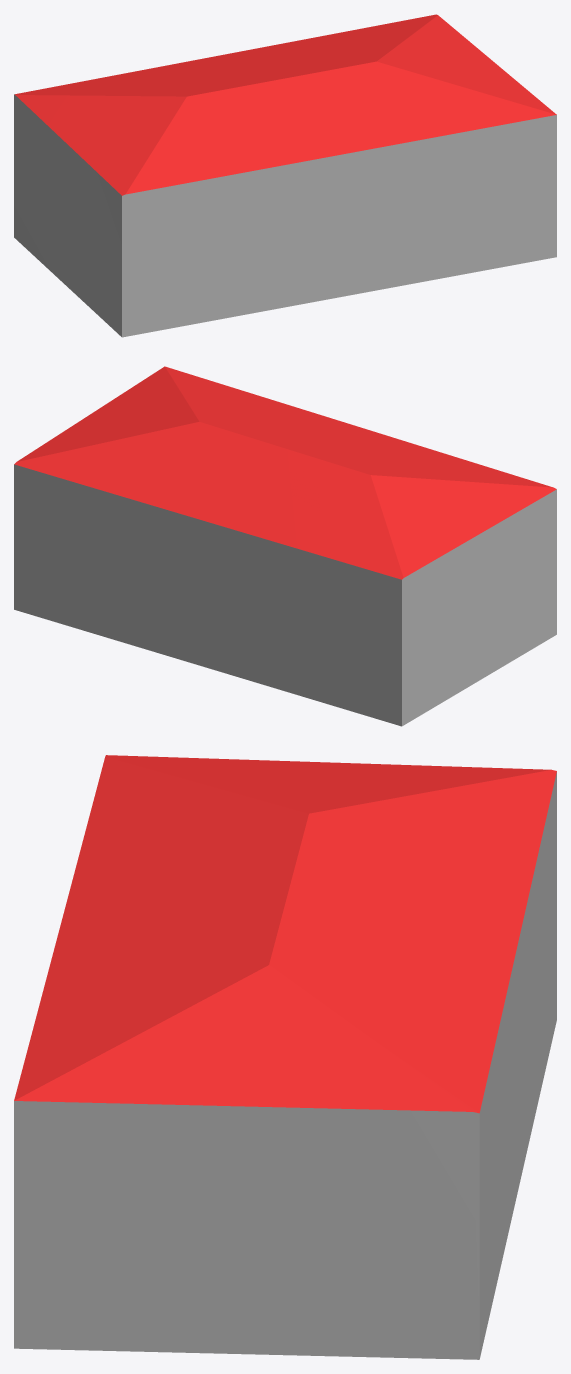
Rendered from DEBY_LOD2_4728539.dae.
3 views of the same model, one above another, from view 1: azimuth 30°, elevation 25°; view 2: azimuth 150°, elevation 25°; view 3: azimuth 270°, elevation 25° (orthographic). The views are drawn at different scales.
Bounding box in the file's own units: 8.36 × 5.36 × 3.19.
